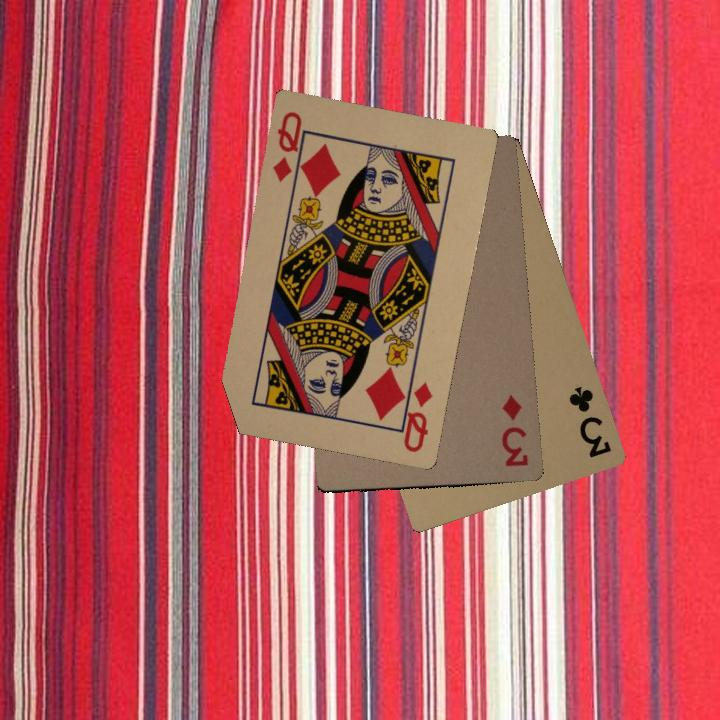3c: (564, 382, 614, 461)
3d: (496, 390, 531, 469)
Qd: (269, 106, 313, 186), (397, 370, 435, 455)
